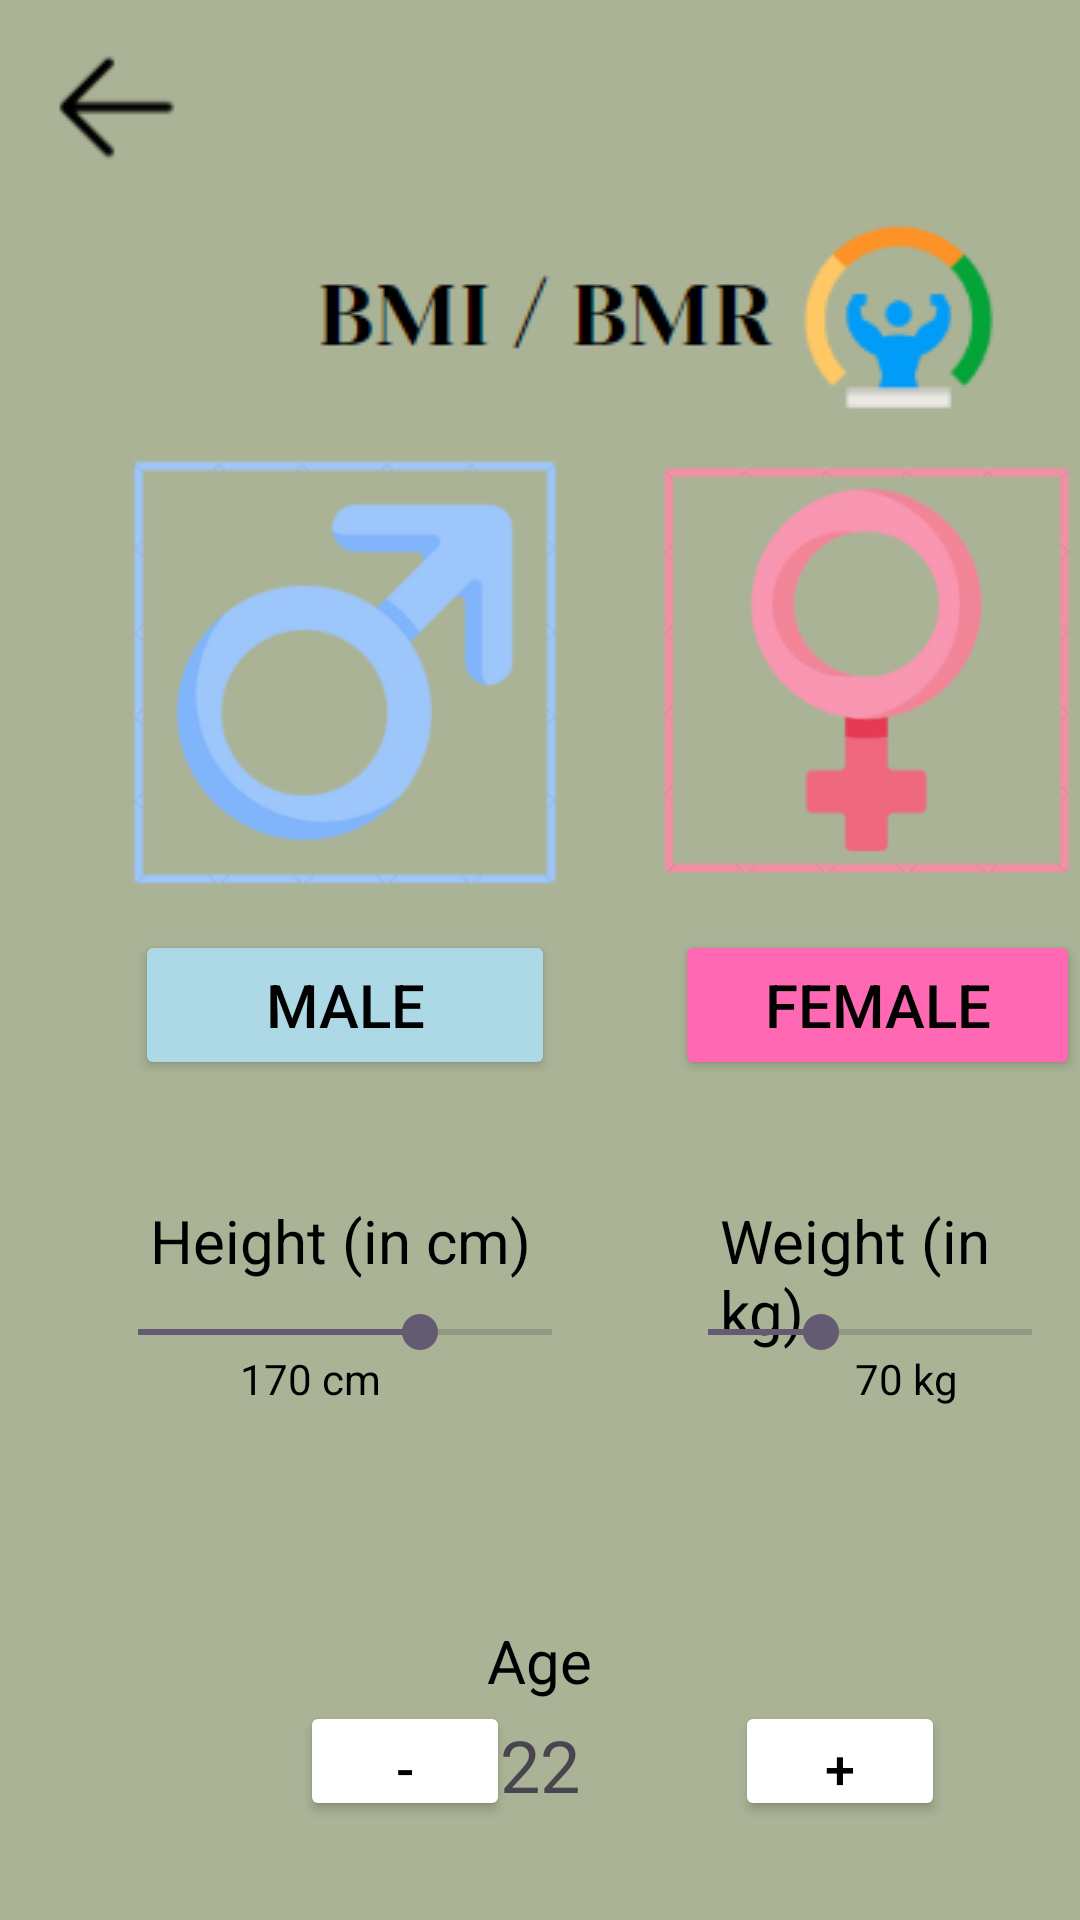

Icons on this 1080x1920 Android screen, each with its box as (x1, y1, x2, y2):
backbutt: (59, 56, 175, 158)
